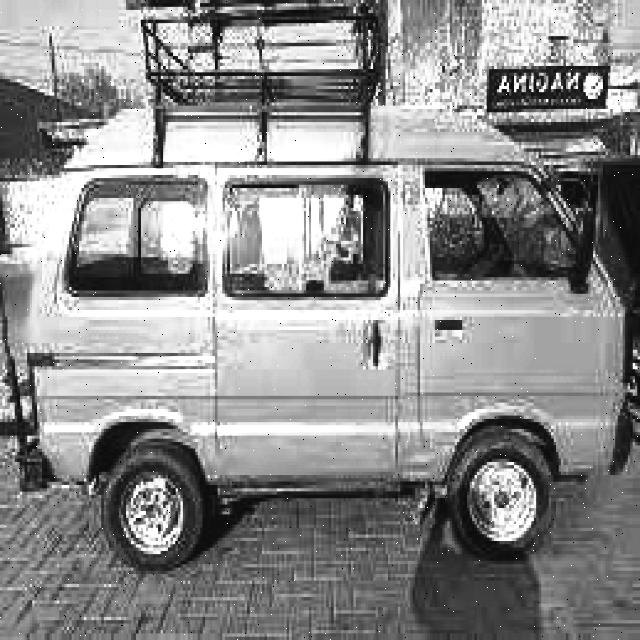LCV: (25, 102, 638, 574)
